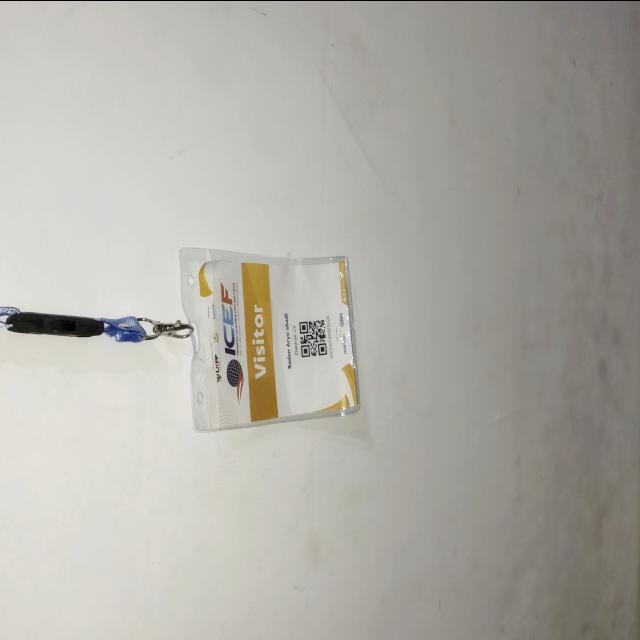ID_card: (178, 246, 360, 434)
